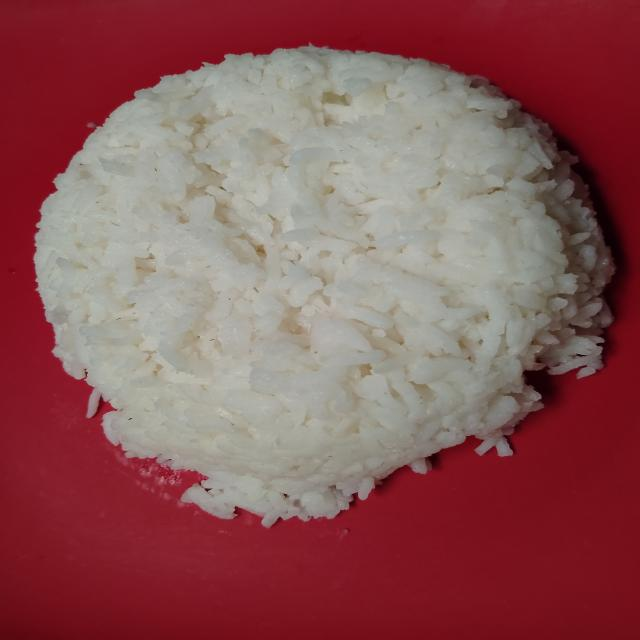Chicken -Chicken Inasal-: (36, 47, 613, 513)
